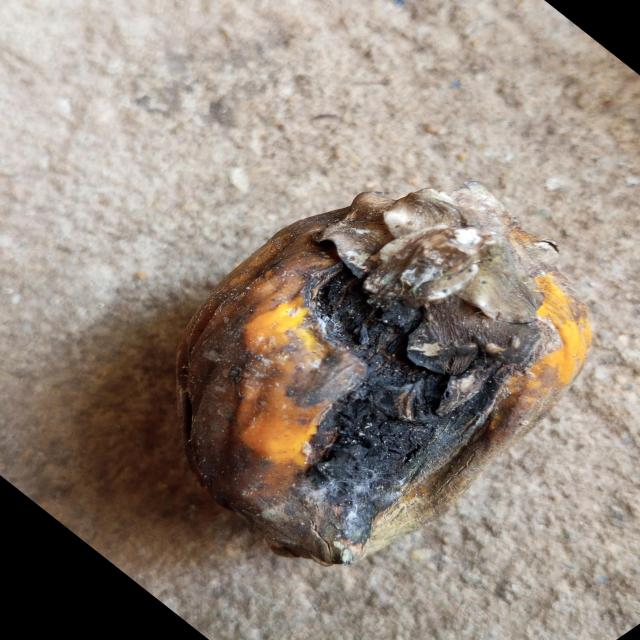damaged: (177, 183, 591, 564)
